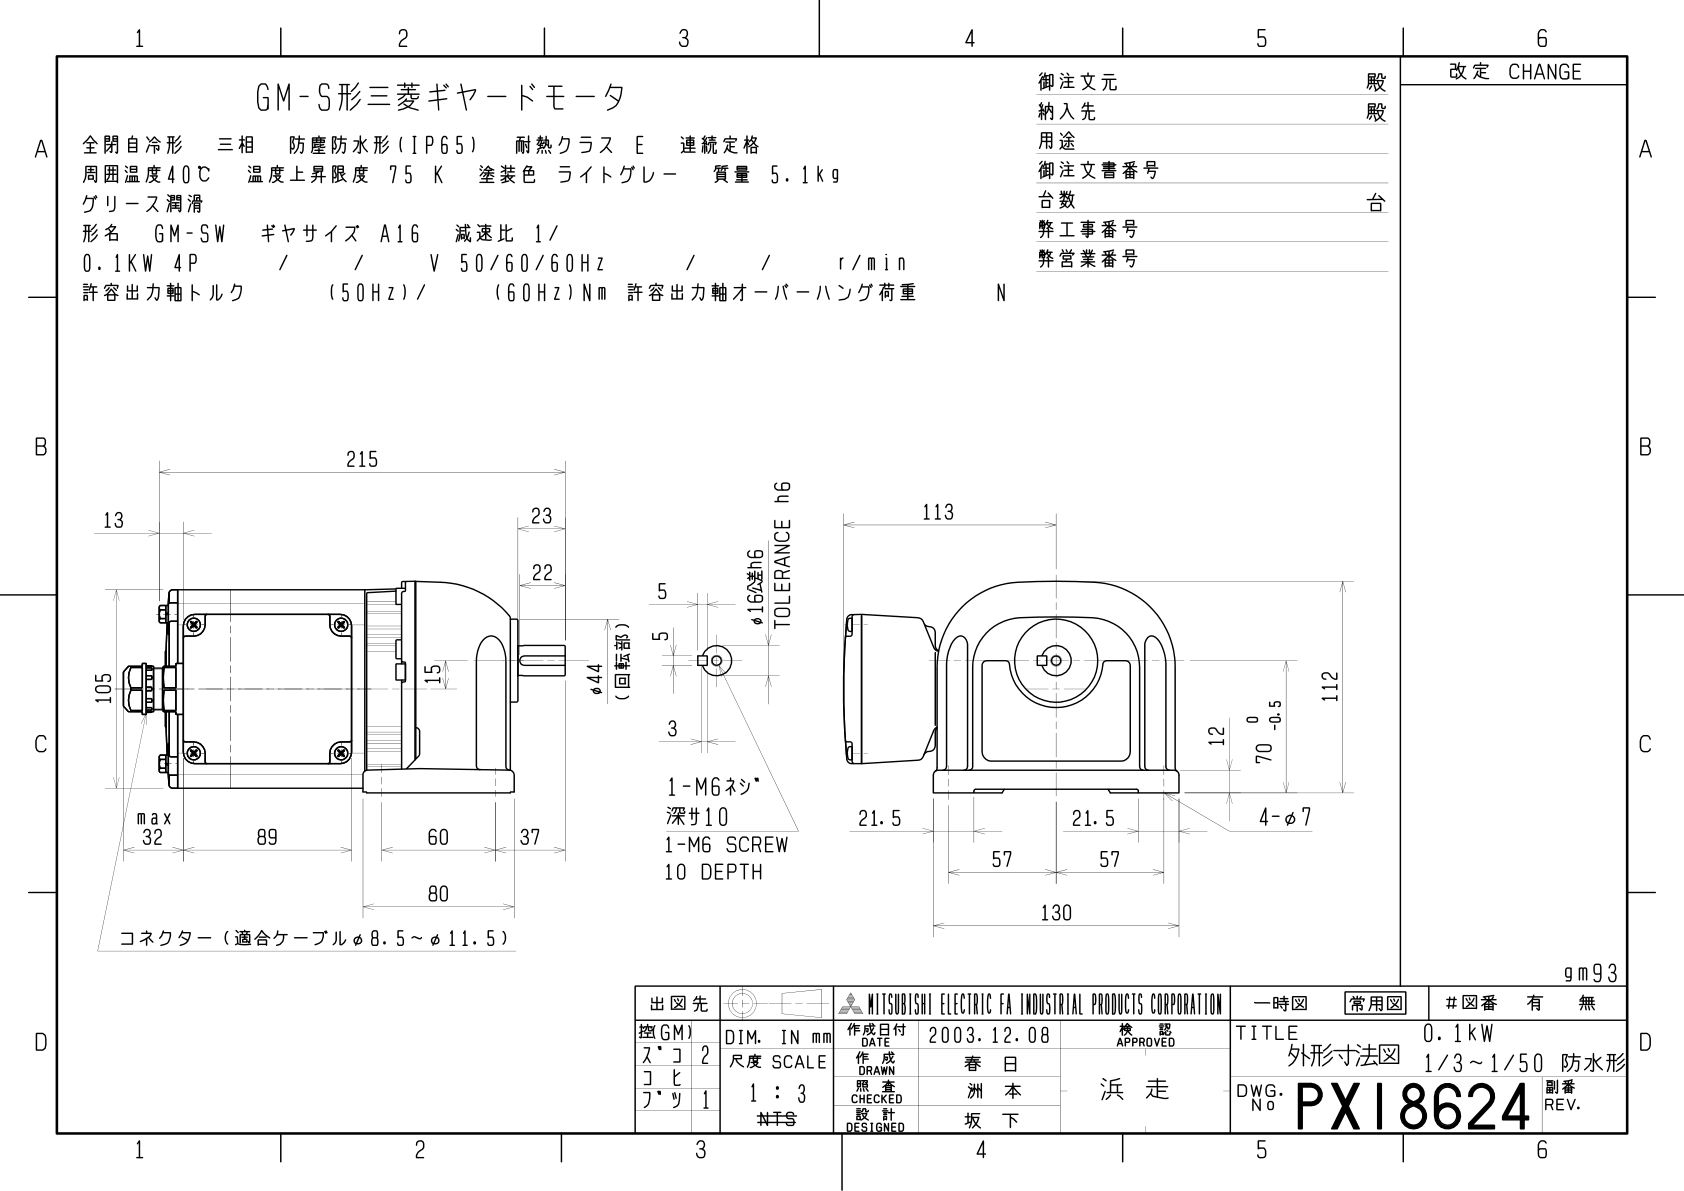GM_S_IP65＿三相_脚: (73, 409, 1381, 965)
